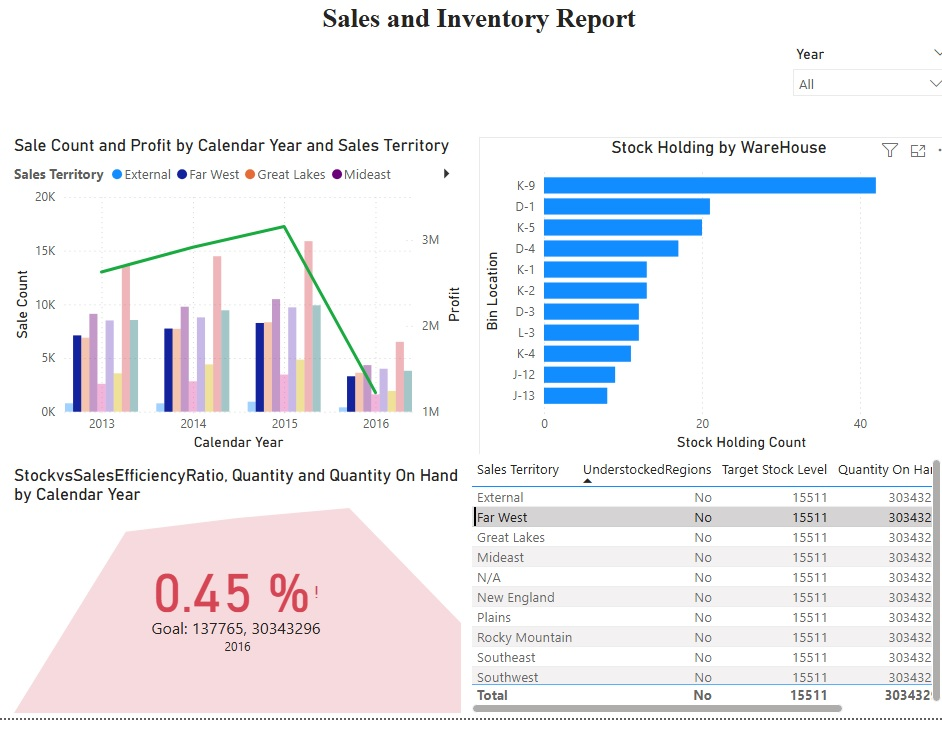

Layout of this report page (visuals, bound fields, positions):
{"tool":"powerbi","page":{"name":"Page 1","canvas":[960,760],"ordinal":0},"visuals":[{"type":"lineClusteredColumnComboChart","title":"Sales by region","fields":{"Y":["Sale (Measures).Sale Count"],"Category":["Delivery Date.Calendar Year"],"Series":["City.Sales Territory"],"Y2":["Sale (Measures).Profit"]},"box":[10,137.1,457.1,320],"z":0},{"type":"textbox","box":[0,0,960,65.7],"z":1000},{"type":"slicer","fields":{"Values":["Invoice Date.Calendar Year"]},"box":[784.3,42.7,175.7,70.7],"z":2000},{"type":"barChart","title":"Stock Holding by WareHouse","fields":{"Category":["Stock Holding.Bin Location"],"Y":["Stock Holding (Measures).Stock Holding Count"]},"box":[480,138.6,480,318.6],"z":3000},{"type":"kpi","title":"Stock vs. Sales Efficiency ratio","fields":{"Indicator":["Measures.StockvsSalesEfficiencyRatio"],"TrendLine":["Invoice Date.Calendar Year"],"Goal":["Sale (Measures).Quantity","Stock Holding (Measures).Quantity On Hand"]},"box":[9.9,506.9,457.3,253.5],"z":4000},{"type":"tableEx","title":"Understocked Regions","fields":{"Values":["City.Sales Territory","Measures.UnderstockedRegions","Stock Holding (Measures).Target Stock Level","Stock Holding (Measures).Quantity On Hand","Stock Holding (Measures).Reorder Level"]},"box":[467.3,497,480,263.4],"z":5000}]}

Visuals, with their boxes in screenshot pixels (x1, y1, x2, y2), scaled from the page's 960x760 canvas onto the 942x751 screenshot:
"Sales by region" lineClusteredColumnComboChart: (10,135,458,452)
textbox: (0,0,941,65)
slicer - Invoice Date.Calendar Year: (770,42,941,112)
"Stock Holding by WareHouse" barChart: (471,137,941,452)
"Stock vs. Sales Efficiency ratio" kpi: (10,501,458,750)
"Understocked Regions" tableEx: (459,491,930,750)
